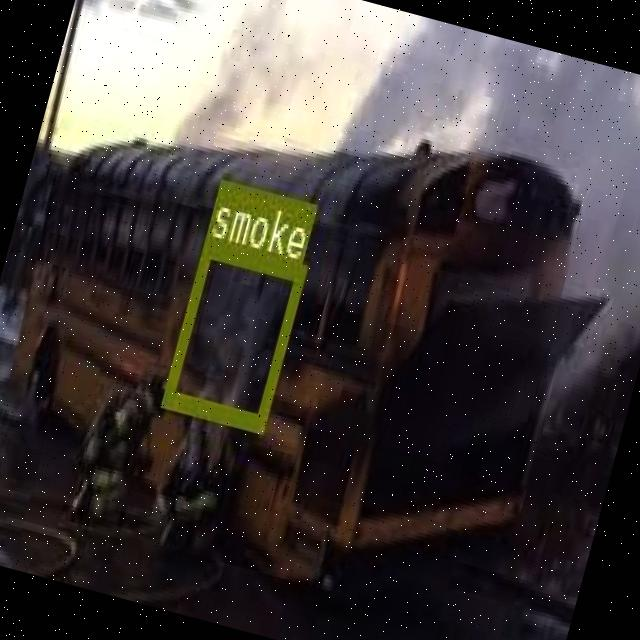smoke: (160, 235, 306, 428)
